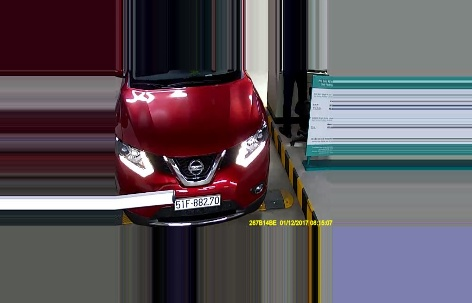plate: (173, 195, 223, 210)
